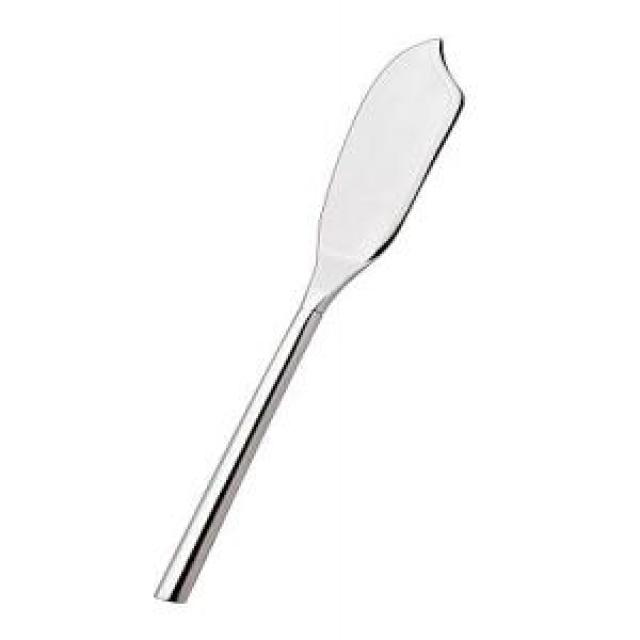knife: (147, 32, 478, 605)
